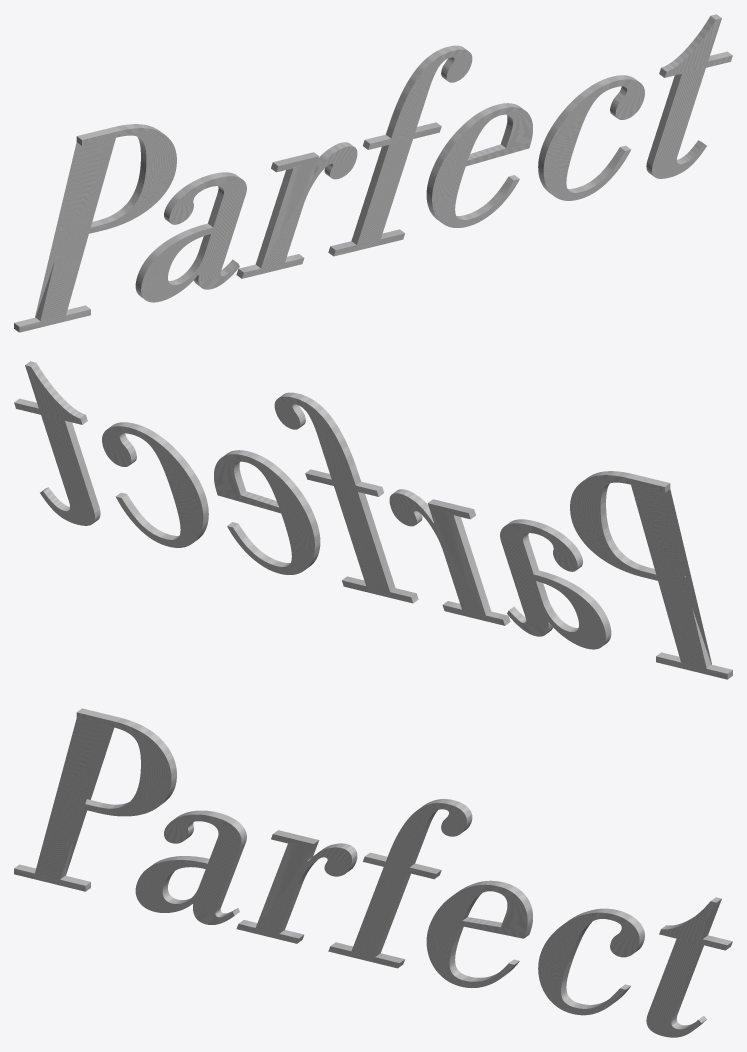
File: Parfect.obj
3 renders of one model, top to bottom at view 1: azimuth 30°, elevation 25°; view 2: azimuth 150°, elevation 25°; view 3: azimuth 330°, elevation 25°, orthographic.
Visible parts, largest first — view 1: テキスト.001; view 2: テキスト.001; view 3: テキスト.001.
Part boxes in pixels (x1=…): テキスト.001: x1=14, y1=14, x2=732, y2=332; テキスト.001: x1=14, y1=361, x2=732, y2=679; テキスト.001: x1=14, y1=708, x2=732, y2=1037.
Size of the model in its own units: 2.21 by 0.5364 by 0.0294.
